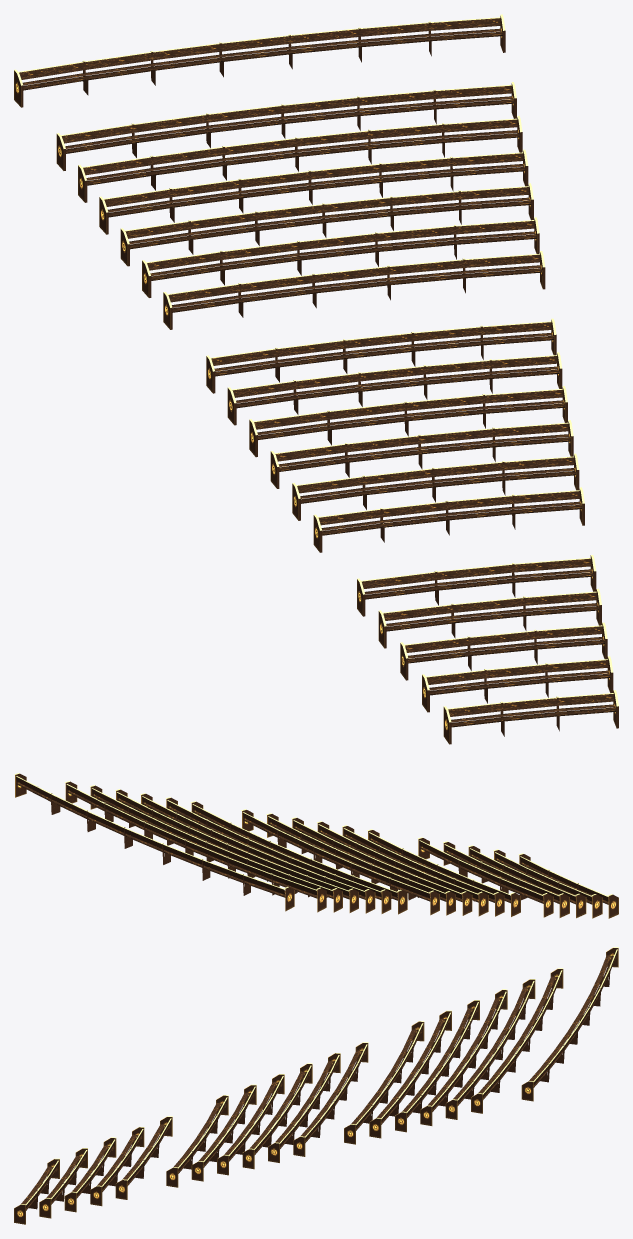
Rendered from mwm_mudbench_gate_g.glb.
3 renders of one model, top to bottom at view 1: azimuth 30°, elevation 25°; view 2: azimuth 150°, elevation 25°; view 3: azimuth 270°, elevation 25°, orthographic. The views are drawn at different scales.
Parts seen in each view (by area): view 1: mudplank, gold, walnut, endpanel; view 2: walnut, mudplank, endpanel, gold; view 3: mudplank, walnut, endpanel, gold.
Boxes of the visible parts, box(x1,y1,x2,y2) form: mudplank: box(19, 18, 616, 727); gold: box(14, 14, 618, 722); walnut: box(21, 22, 618, 744); endpanel: box(14, 16, 616, 743); walnut: box(16, 776, 608, 901); mudplank: box(17, 783, 608, 904); endpanel: box(15, 773, 618, 918); gold: box(14, 773, 612, 896); mudplank: box(21, 955, 616, 1210); walnut: box(26, 951, 617, 1209); endpanel: box(14, 948, 618, 1224); gold: box(15, 947, 618, 1207).
Bounding box in the file's own units: 20.46 × 16.24 × 38.6.
Materials: 4 (3 with a texture image).
